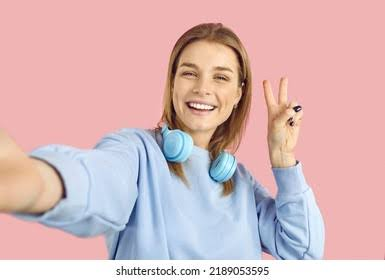peace_sign: (257, 65, 307, 156)
